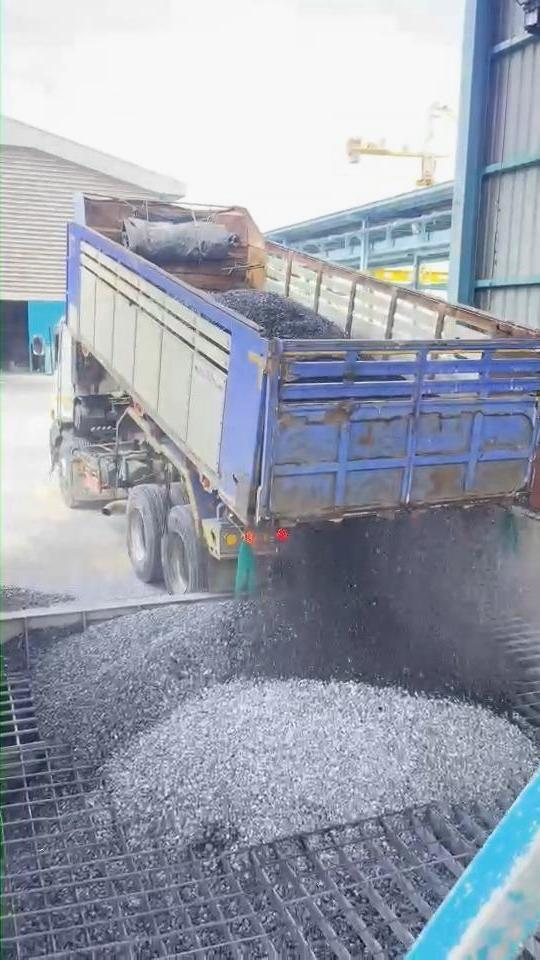gravel: (104, 680, 537, 847), (245, 511, 516, 715), (31, 601, 267, 762), (216, 289, 343, 338), (1, 585, 74, 611)
